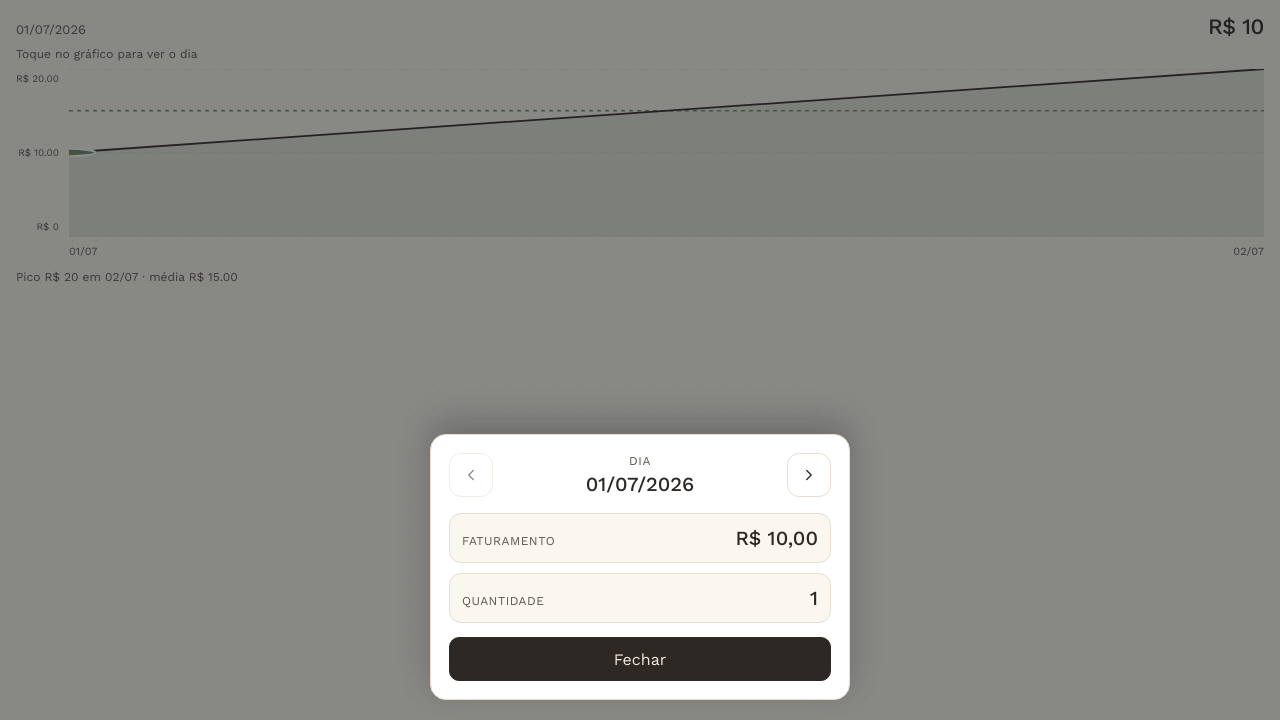
Test: DailyBars (mobile) › closes the sheet with Escape, on overlay click, and ignores other keys
Earlier steps of the test are not shown.
Step 1. Click the element showing "Dia 01/07/2026 Faturamento R$ 10,00 Quantidade 1 Fechar" → [640, 360], box 0,0 -> 1279,719
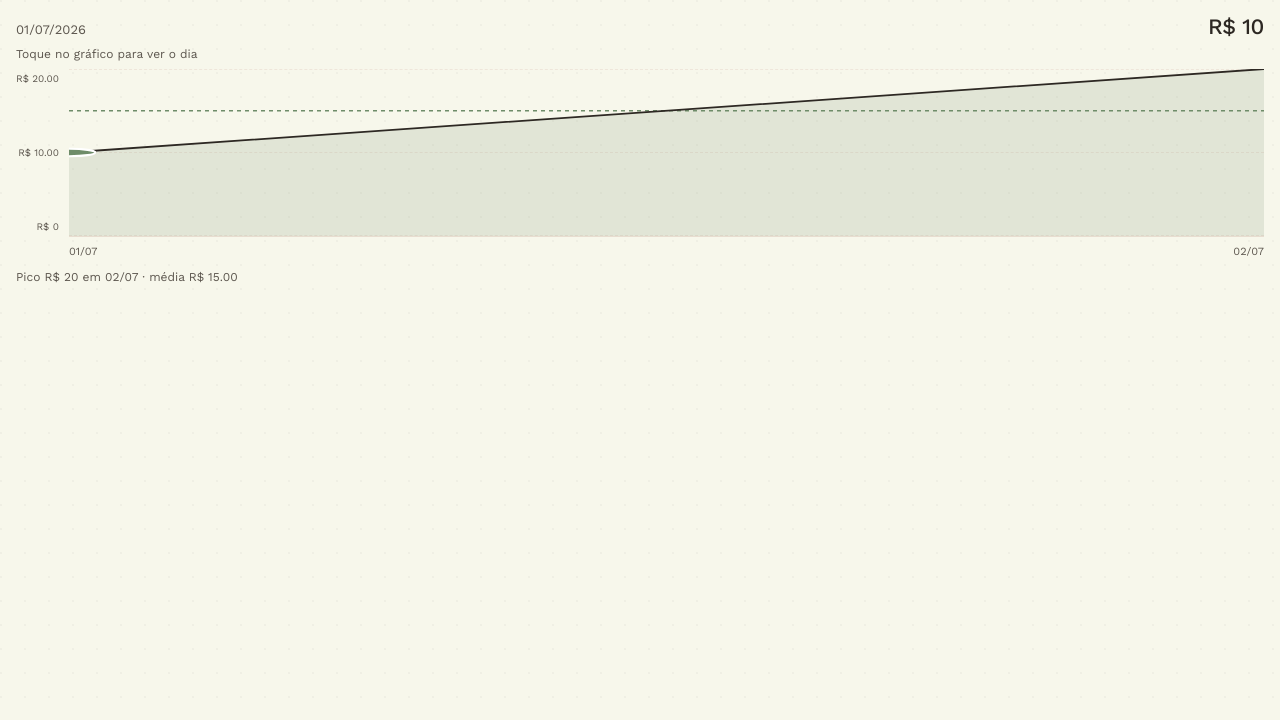
Expected: the dialog is gone
